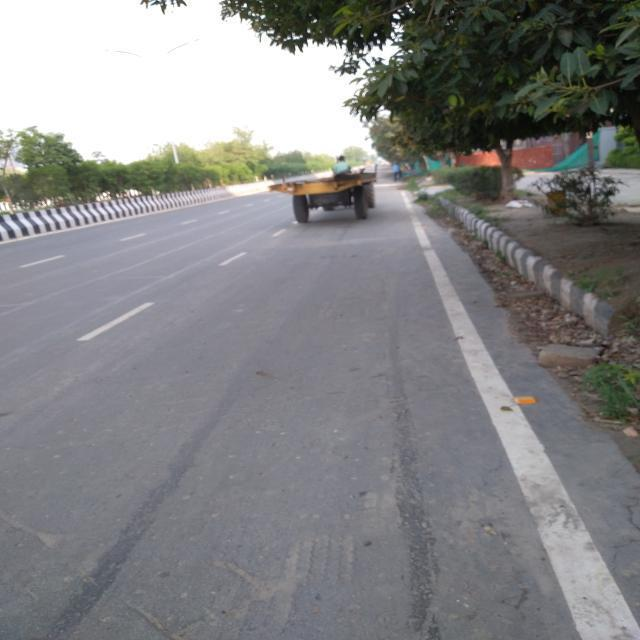tractor_back: (264, 147, 384, 220)
